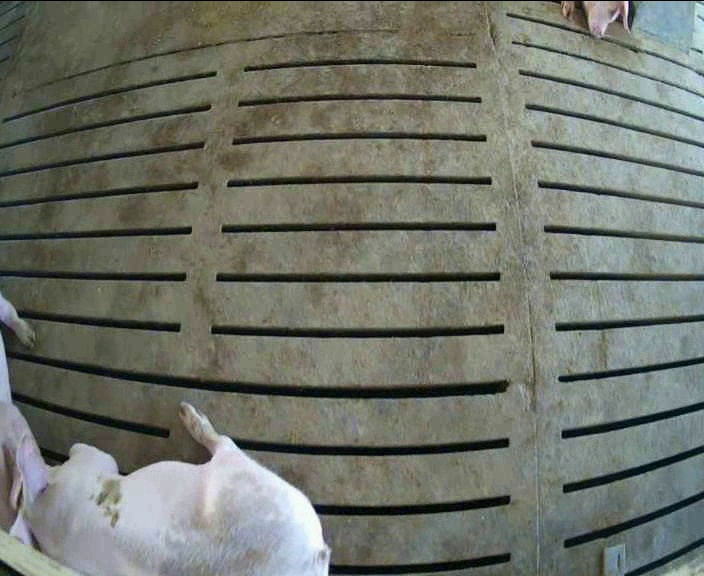pig: (8, 403, 329, 572)
